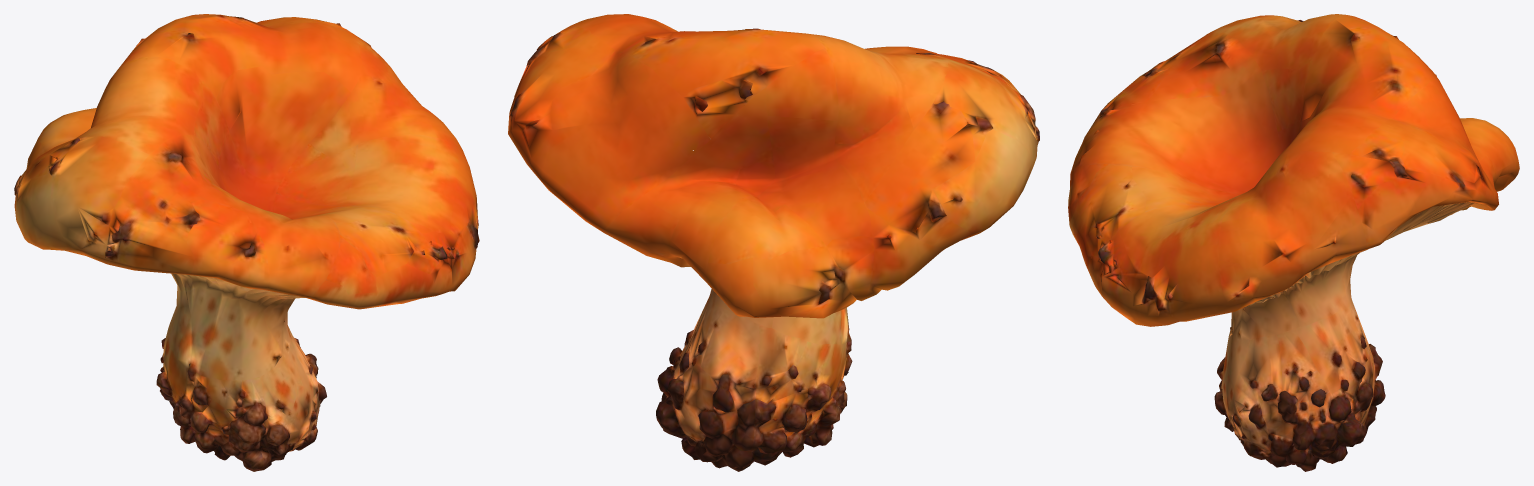
The model's file is milkcap.glb.
3 views of the same model, side by side, from view 1: azimuth 30°, elevation 25°; view 2: azimuth 150°, elevation 25°; view 3: azimuth 270°, elevation 25° (orthographic). The views are drawn at different scales.
Visible parts, largest first — view 1: tripo_node_c75657a0-8ba0-474e-9c77-8912fe68a6d9; view 2: tripo_node_c75657a0-8ba0-474e-9c77-8912fe68a6d9; view 3: tripo_node_c75657a0-8ba0-474e-9c77-8912fe68a6d9.
Boxes of the visible parts, left/top/right/bottom form: tripo_node_c75657a0-8ba0-474e-9c77-8912fe68a6d9: left=14, top=14, right=479, bottom=471; tripo_node_c75657a0-8ba0-474e-9c77-8912fe68a6d9: left=508, top=14, right=1039, bottom=471; tripo_node_c75657a0-8ba0-474e-9c77-8912fe68a6d9: left=1068, top=14, right=1519, bottom=471.
Size of the model in its own units: 0.9785 by 0.923 by 0.9323.
1 material, 1 textured.
